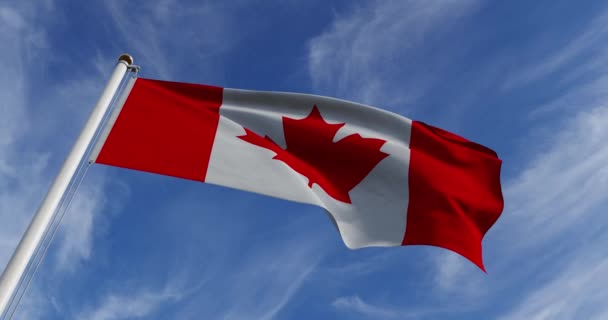Canada flag: (96, 71, 511, 276)
